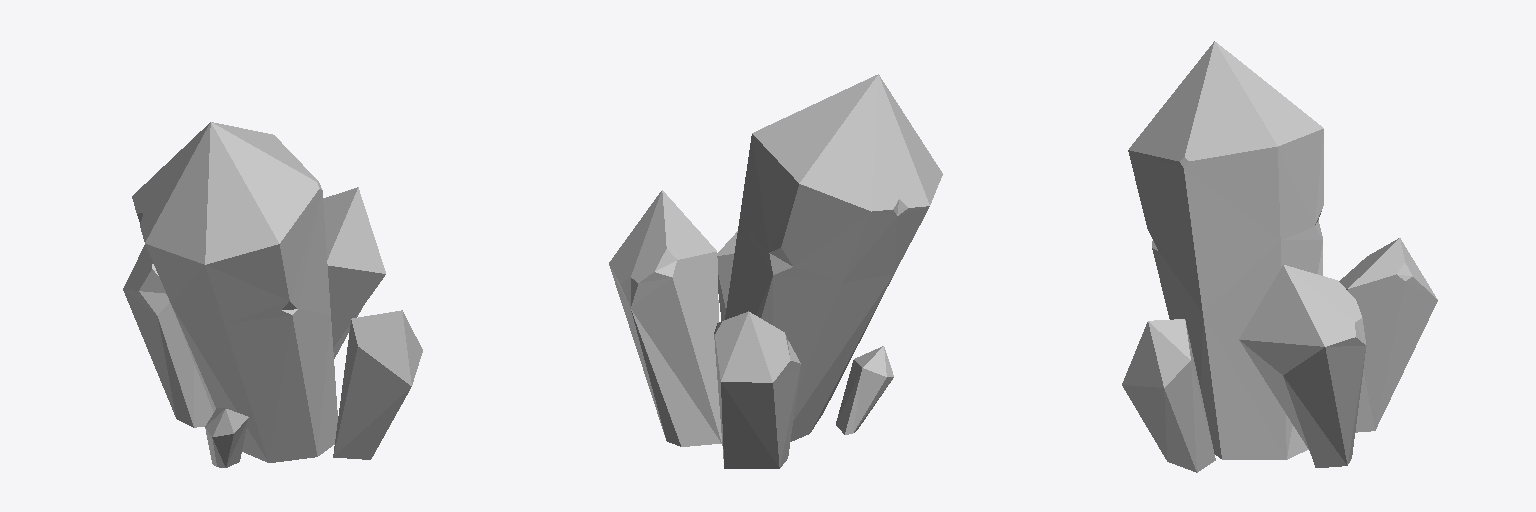
Rendered from Crystal.obj.
3 views of the same model, side by side, from view 1: azimuth 30°, elevation 25°; view 2: azimuth 150°, elevation 25°; view 3: azimuth 270°, elevation 25° (orthographic).
Parts seen in each view (by area): view 1: Crystals_Cube.001; view 2: Crystals_Cube.001; view 3: Crystals_Cube.001.
Boxes of the visible parts, x1,y1,x2,y2 form: Crystals_Cube.001: [123, 122, 422, 467]; Crystals_Cube.001: [609, 74, 942, 468]; Crystals_Cube.001: [1122, 41, 1437, 472].
Size of the model in its own units: 0.4036 by 0.4995 by 0.4044.